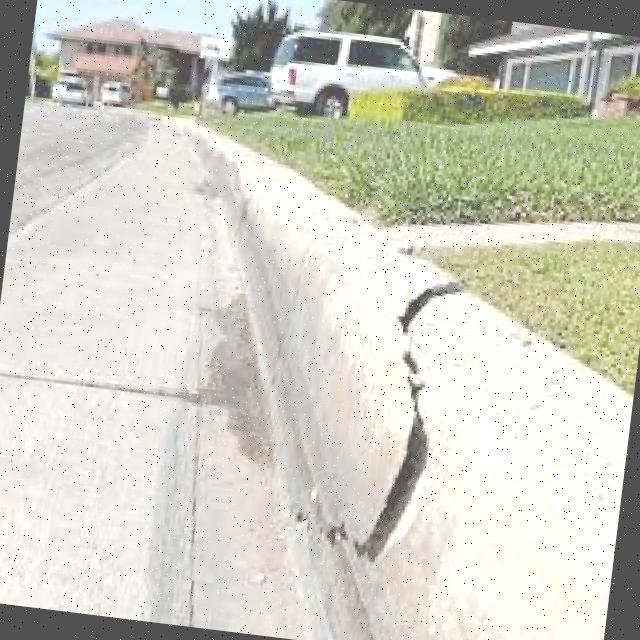curb: (193, 148, 517, 518), (331, 356, 627, 640), (153, 109, 262, 197)
